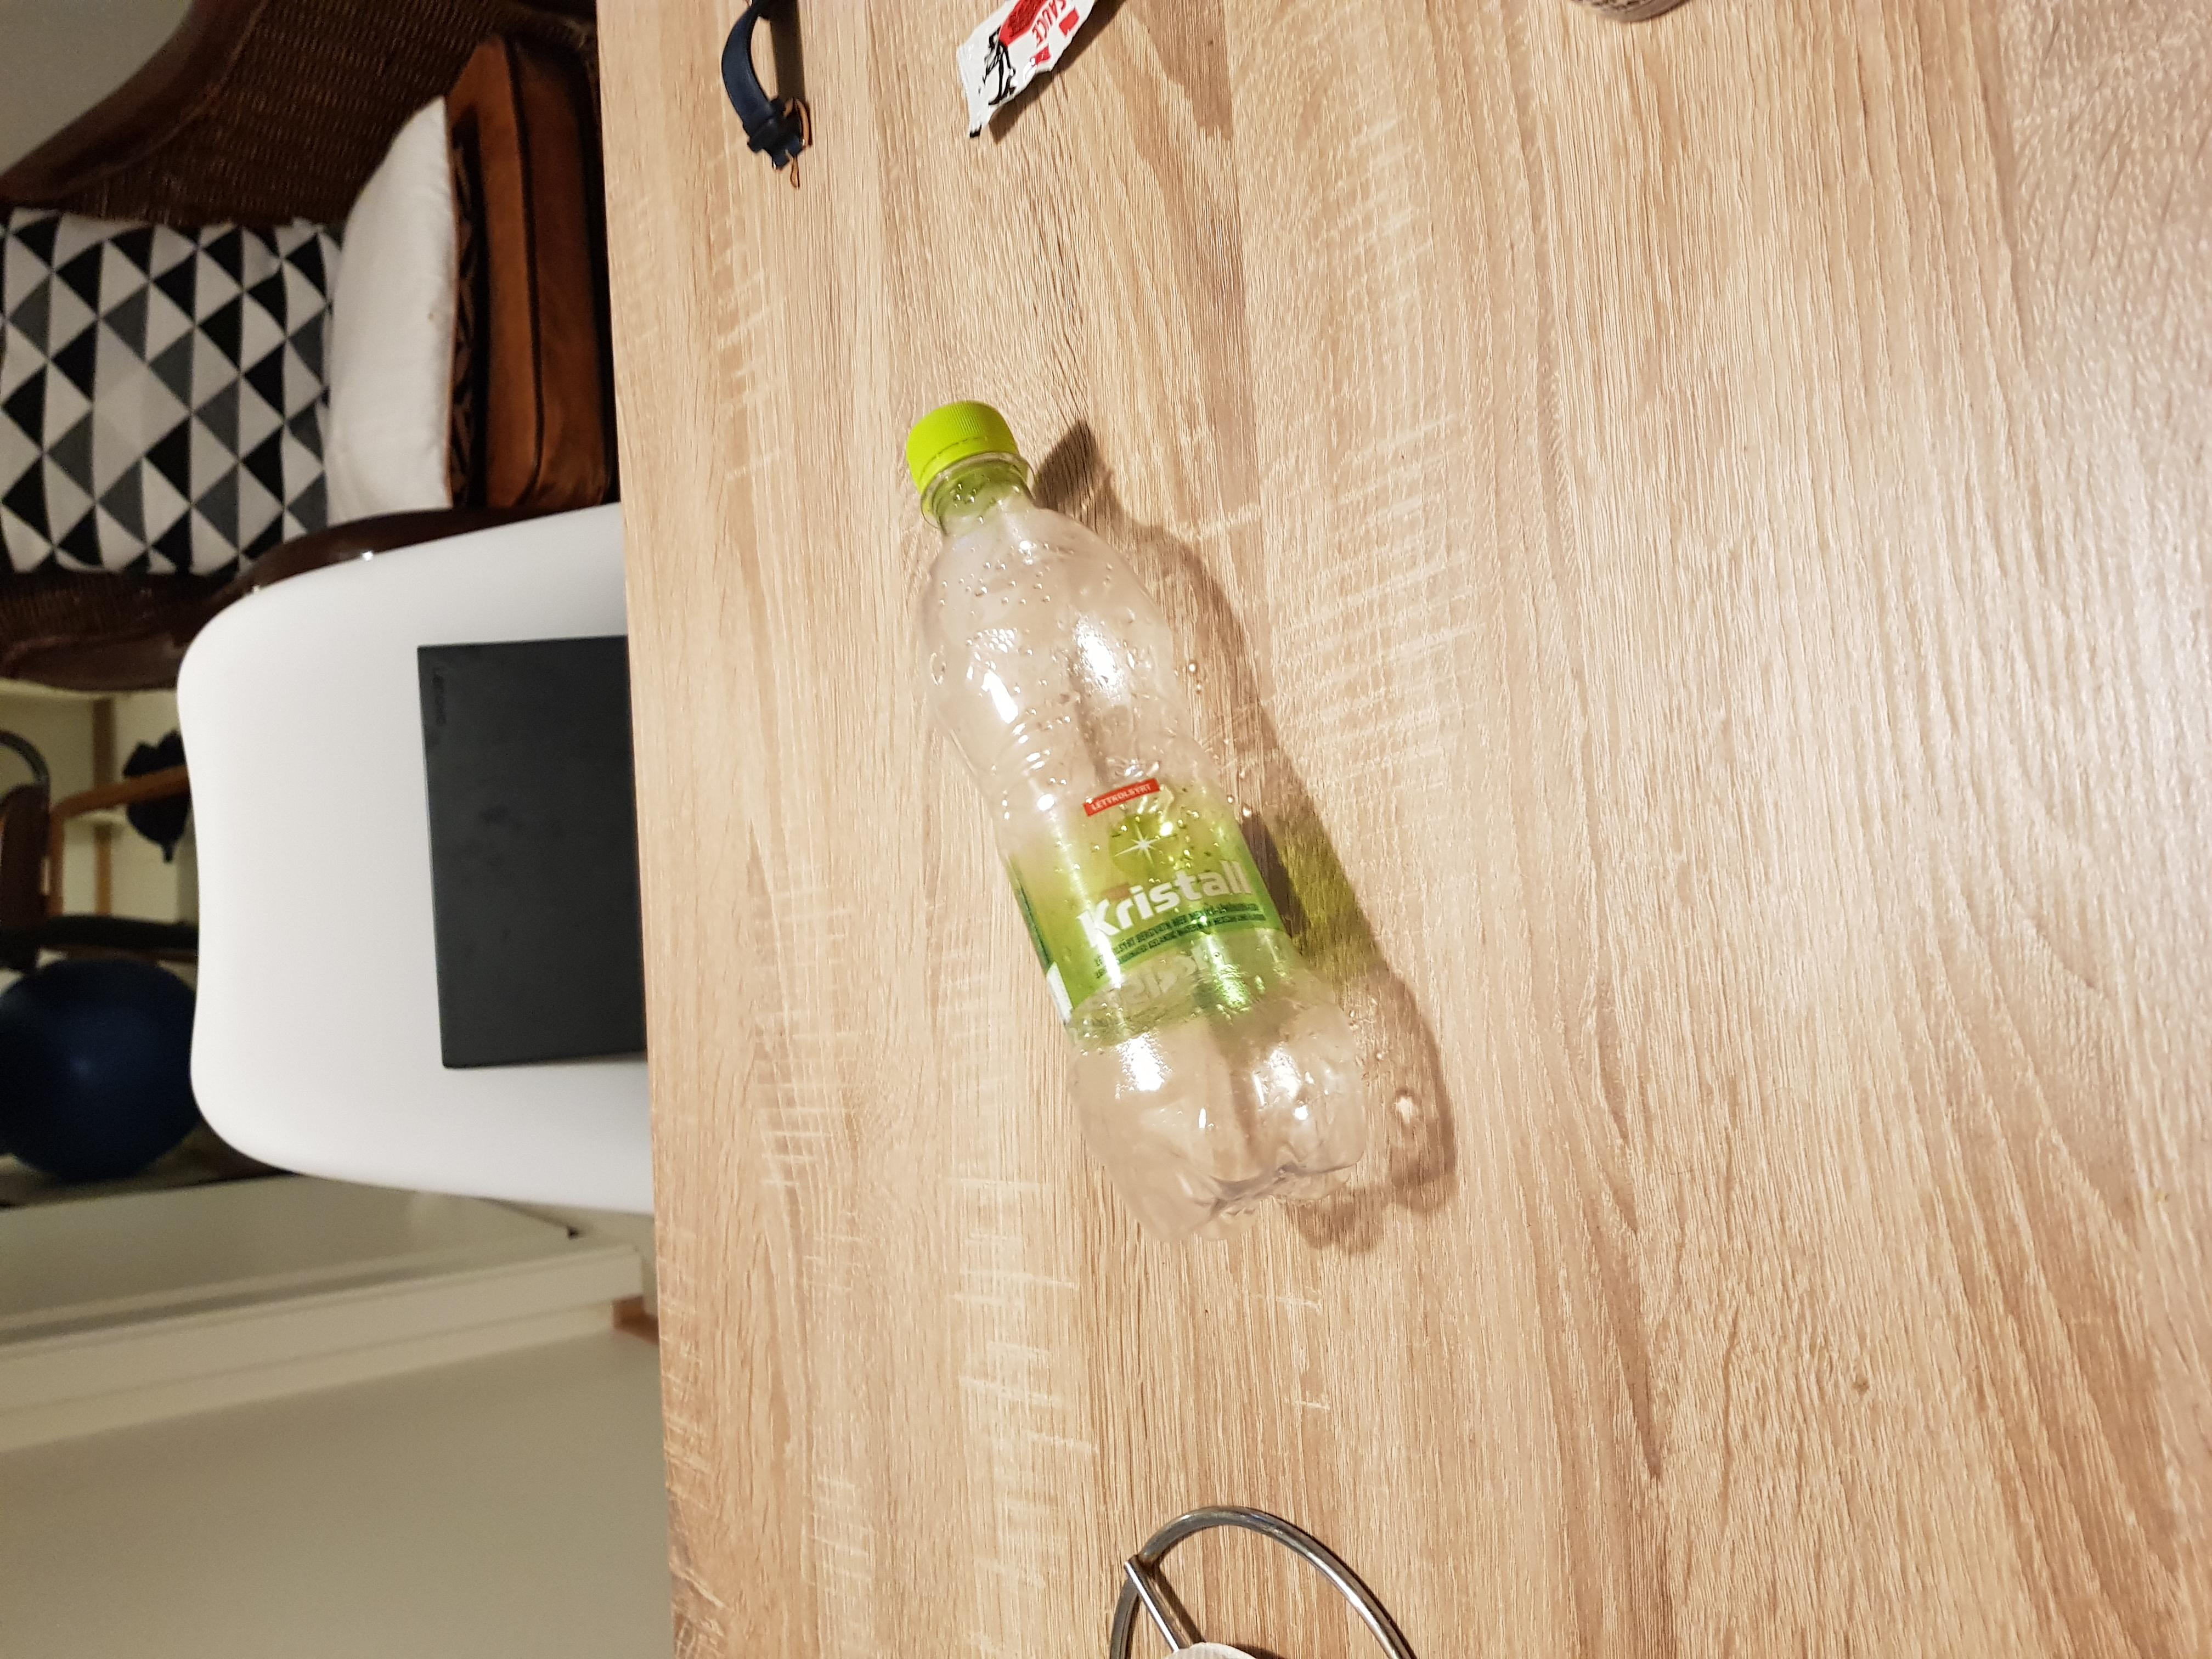Bottle: (888, 392, 1390, 1253)
